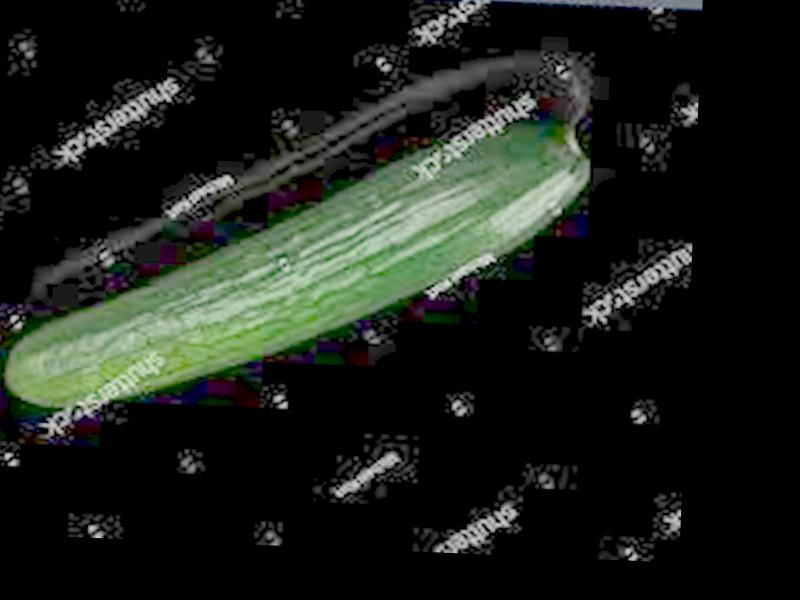Cucumber: (0, 94, 590, 431)
